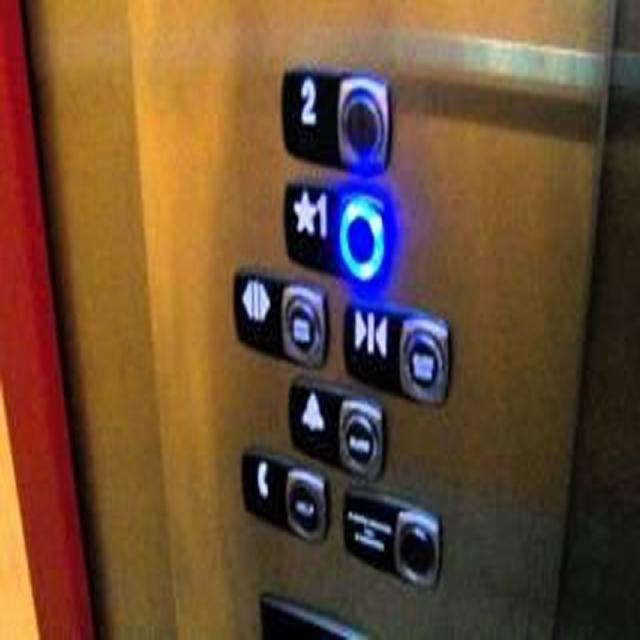2: (278, 60, 394, 176)
alarm: (284, 369, 388, 483)
call: (236, 441, 332, 547)
close: (340, 292, 452, 408)
open: (228, 263, 332, 369)
s1: (281, 171, 393, 285)
